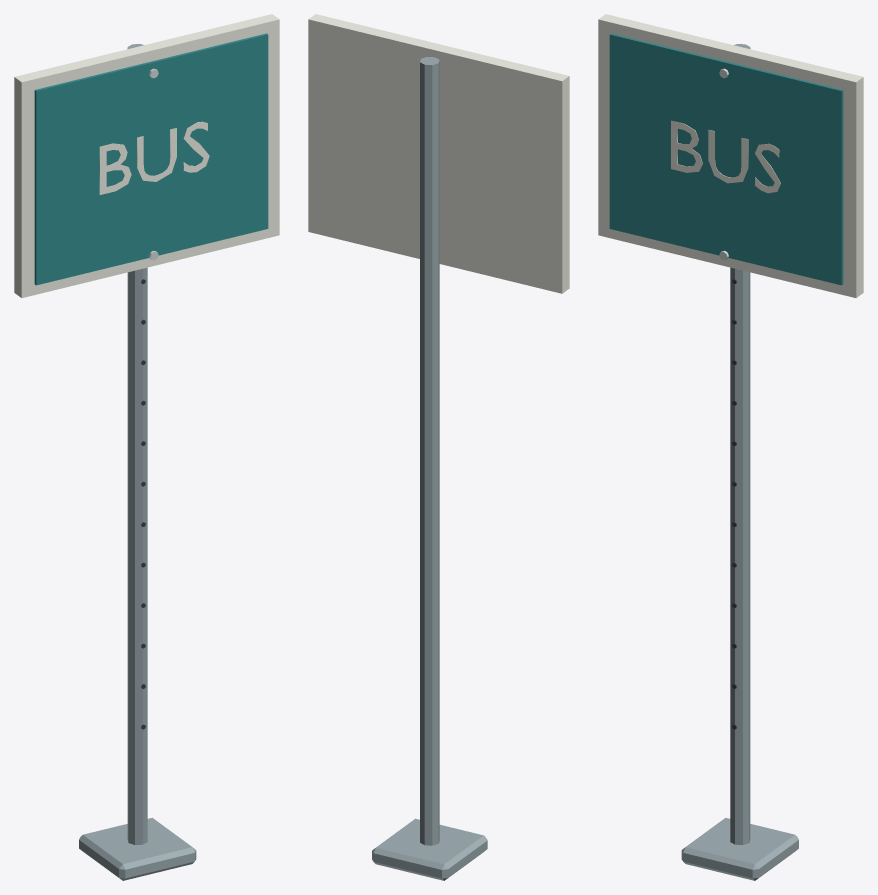
File: Sign_Bus_Stop.glb
3 renders of one model, left to right at view 1: azimuth 30°, elevation 25°; view 2: azimuth 150°, elevation 25°; view 3: azimuth 330°, elevation 25°, orthographic.
Parts seen in each view (by area): view 1: Sign_Bus_Stop; view 2: Sign_Bus_Stop; view 3: Sign_Bus_Stop.
Boxes of the visible parts, <box> form: Sign_Bus_Stop: <box>14,14,279,880</box>; Sign_Bus_Stop: <box>308,14,569,880</box>; Sign_Bus_Stop: <box>598,14,863,880</box>.
Bounding box in the file's own units: 0.8 × 2.42 × 0.24.
